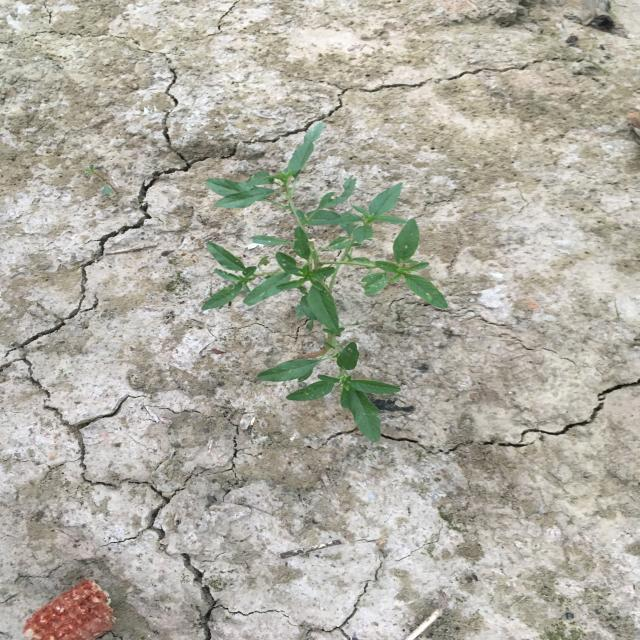Waterhemp: (196, 122, 450, 445)
